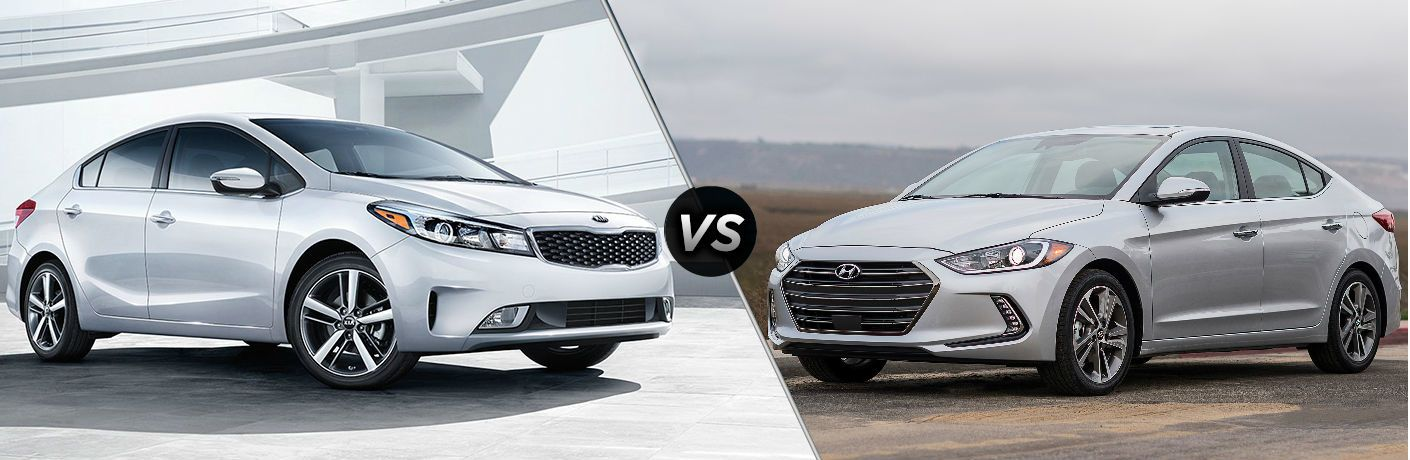elantra: (2, 106, 680, 449), (756, 113, 1404, 401)
